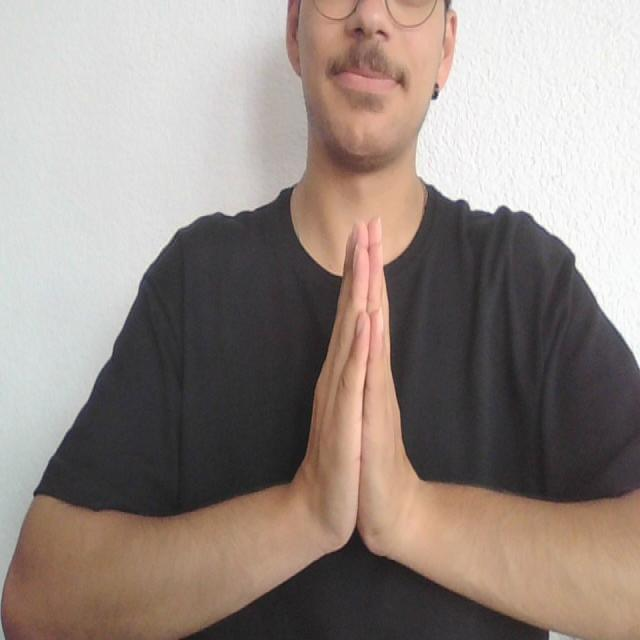Ozur-Dilemek: (296, 209, 423, 578)
